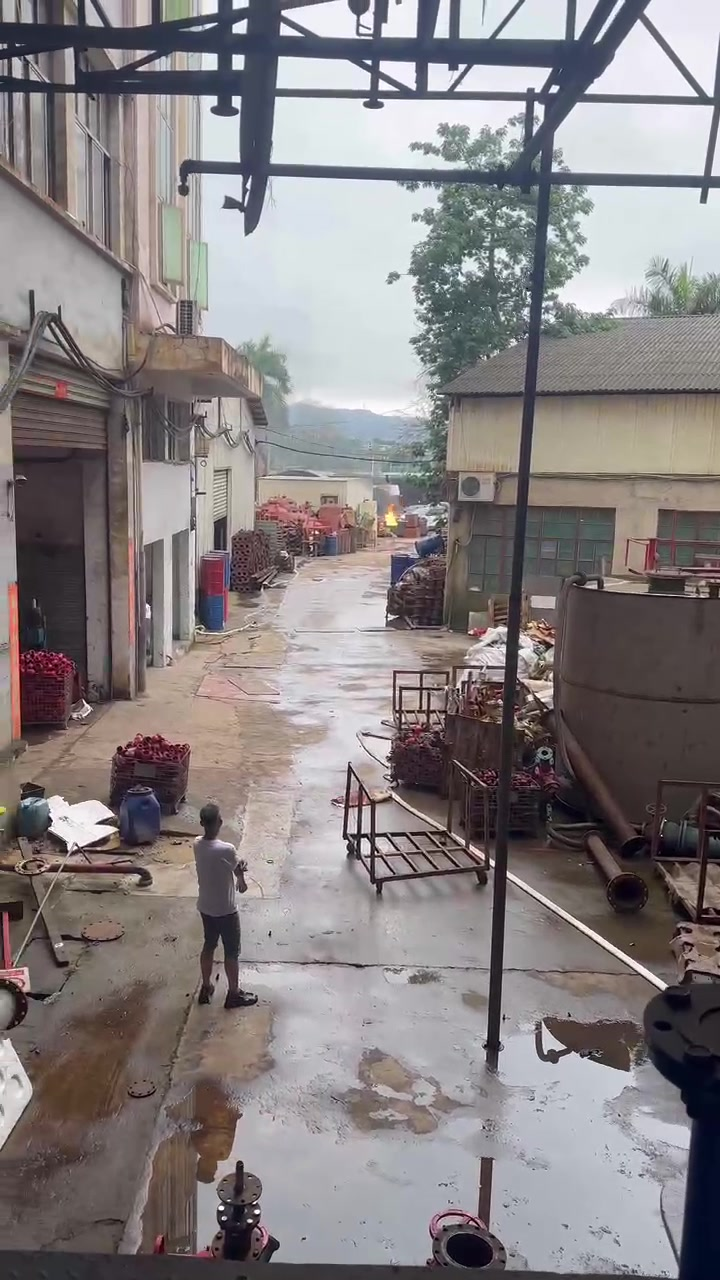fire: (383, 507, 397, 526)
